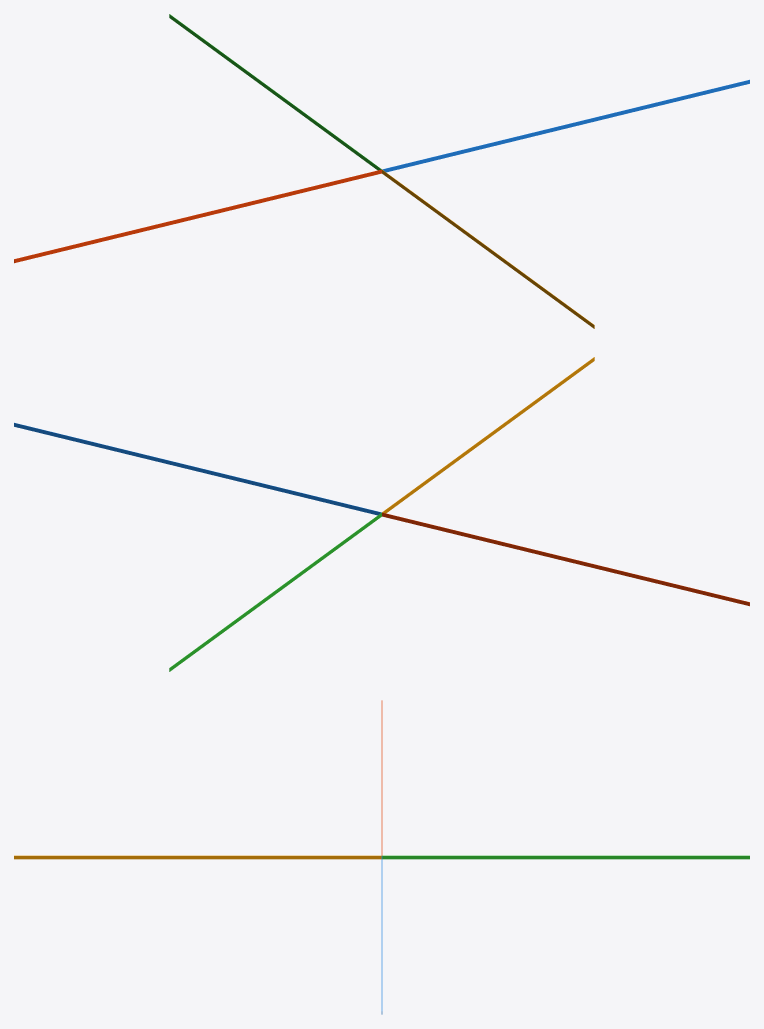
The model's file is arrow.fbx.
The picture shows the model from 3 angles, top to bottom: view 1: azimuth 30°, elevation 25°; view 2: azimuth 150°, elevation 25°; view 3: azimuth 270°, elevation 25°; orthographic projection. The views are drawn at different scales.
Parts seen in each view (by area): view 1: Box002, Box004, Box003, Box001; view 2: Box002, Box004, Box001, Box003; view 3: Box003, Box001.
Boxes of the visible parts, left/top/right/bottom form: Box002: left=14, top=169, right=381, bottom=263; Box004: left=382, top=79, right=749, bottom=172; Box003: left=382, top=169, right=594, bottom=328; Box001: left=169, top=14, right=381, bottom=170; Box002: left=382, top=512, right=749, bottom=606; Box004: left=14, top=422, right=381, bottom=515; Box001: left=169, top=512, right=381, bottom=671; Box003: left=382, top=357, right=594, bottom=513; Box003: left=14, top=855, right=381, bottom=859; Box001: left=382, top=855, right=749, bottom=859.
Size of the model in its own units: 20 by 0.1 by 20.
